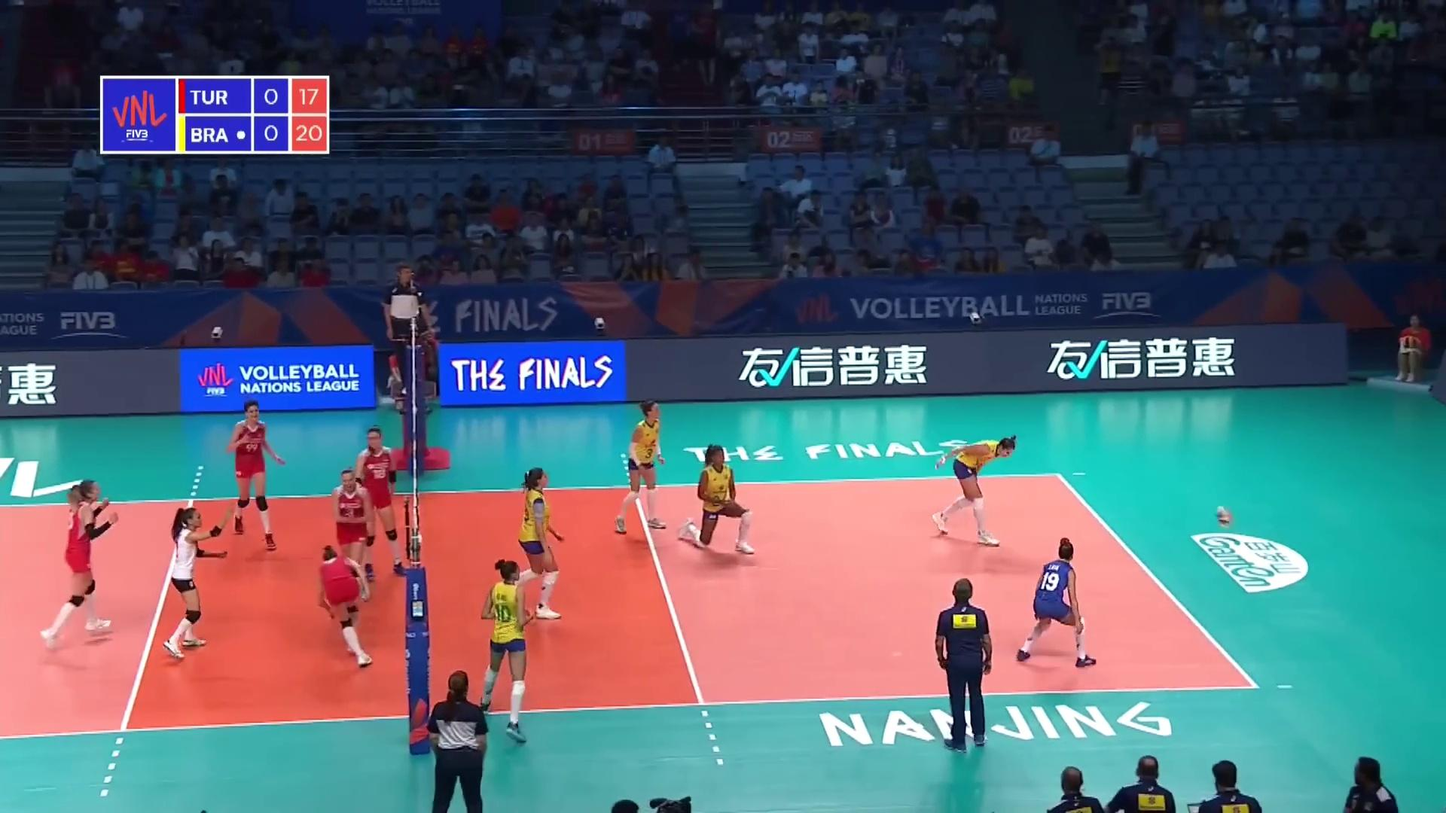player: (35, 481, 117, 646), (471, 559, 530, 748), (1018, 539, 1098, 666), (928, 436, 1014, 545), (508, 465, 566, 620), (680, 445, 756, 558), (226, 401, 283, 549), (160, 510, 216, 660), (356, 427, 404, 581), (614, 399, 666, 536), (318, 545, 371, 668), (332, 472, 376, 617)
refree: (428, 671, 489, 813), (385, 264, 435, 391)
